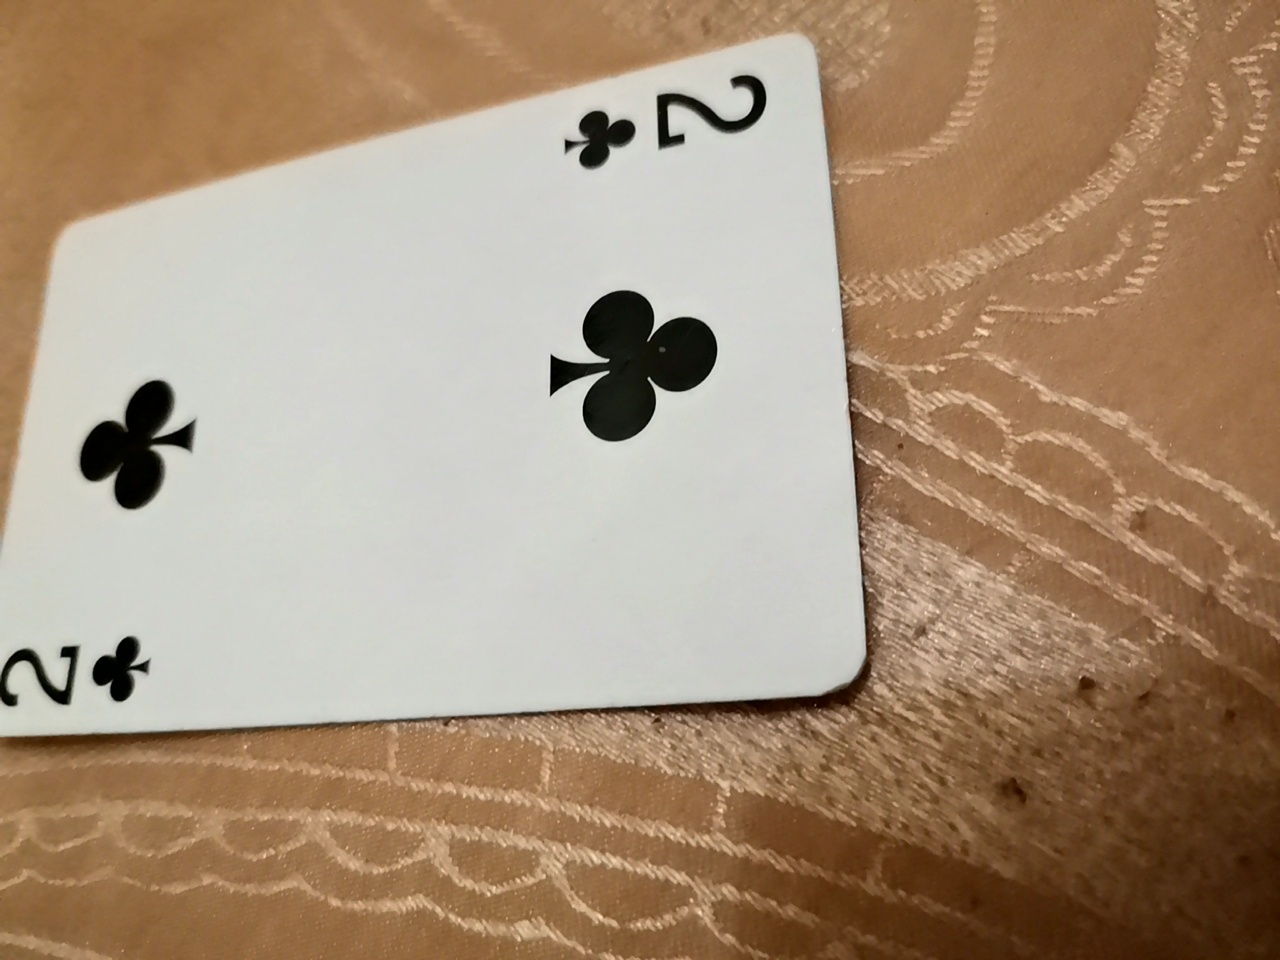mh 2: (7, 31, 896, 750)
